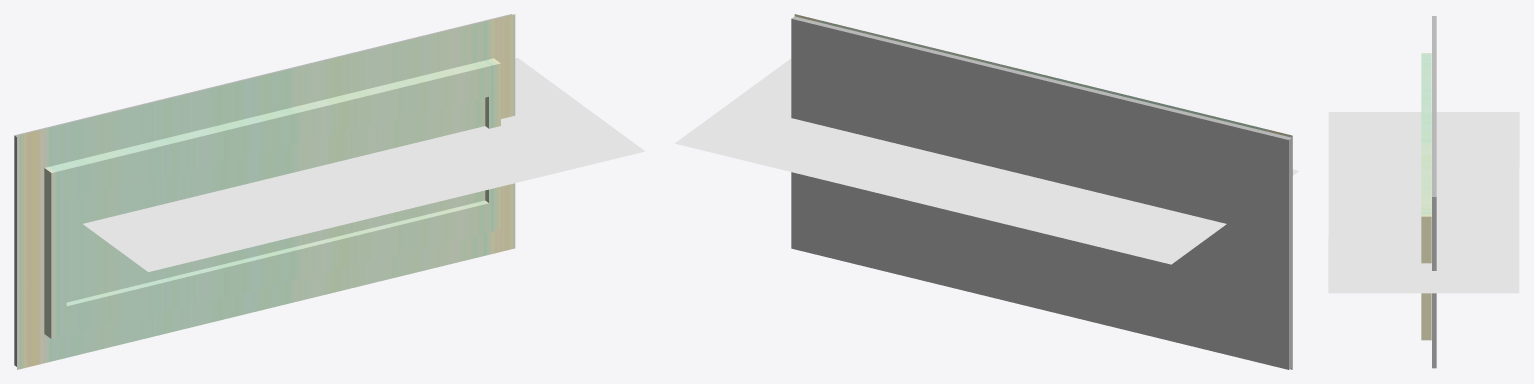
Rendered from 19_2 lcd display.fbx.
3 views of the same model, side by side, from view 1: azimuth 30°, elevation 25°; view 2: azimuth 150°, elevation 25°; view 3: azimuth 270°, elevation 25° (orthographic). The views are drawn at different scales.
Parts seen in each view (by area): view 1: lcd-display-500x500, LCD1602-Parallel-LCD-Display-Yellow-Backlight-ROBU, Cube; view 2: Cube, LCD1602-Parallel-LCD-Display-Yellow-Backlight-ROBU, lcd-display-500x500; view 3: LCD1602-Parallel-LCD-Display-Yellow-Backlight-ROBU, lcd-display-500x500, Cube.
Part boxes in pixels (<box>): lcd-display-500x500: <box>17,14,515,369</box>; LCD1602-Parallel-LCD-Display-Yellow-Backlight-ROBU: <box>83,58,645,271</box>; Cube: <box>14,14,512,366</box>; Cube: <box>791,16,1291,369</box>; LCD1602-Parallel-LCD-Display-Yellow-Backlight-ROBU: <box>675,58,1298,264</box>; lcd-display-500x500: <box>794,14,1292,369</box>; LCD1602-Parallel-LCD-Display-Yellow-Backlight-ROBU: <box>1328,112,1519,293</box>; lcd-display-500x500: <box>1421,53,1431,340</box>; Cube: <box>1432,16,1436,368</box>.
Size of the model in its own units: 2.5 by 1 by 0.9919.
Materials: 3 (2 with a texture image).
